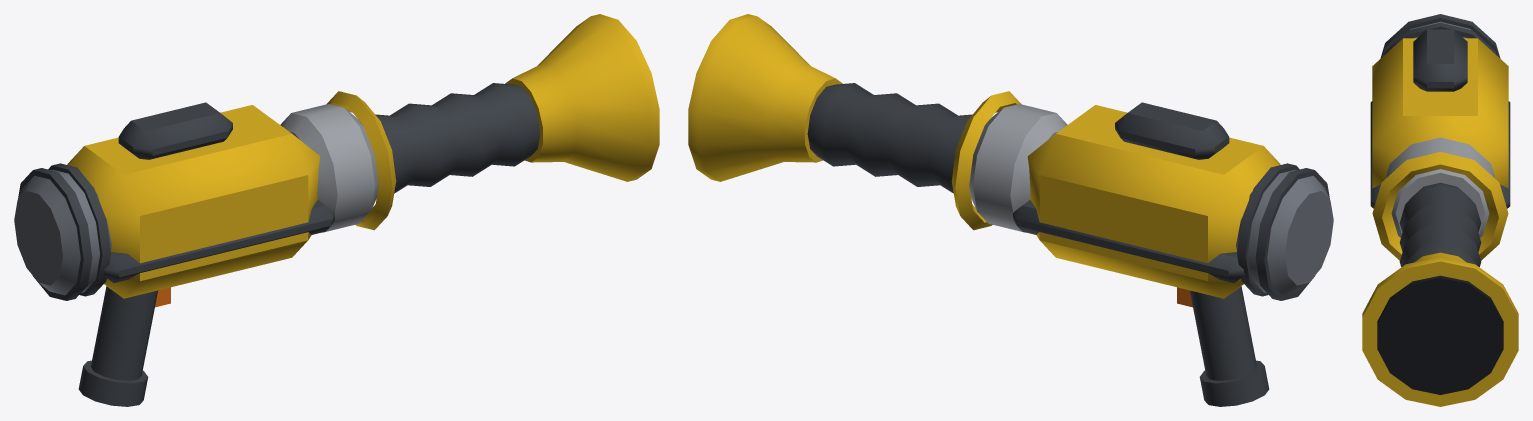
Rendered from vac_1.glb.
3 renders of one model, left to right at view 1: azimuth 30°, elevation 25°; view 2: azimuth 150°, elevation 25°; view 3: azimuth 270°, elevation 25°, orthographic. The views are drawn at different scales.
Visible parts, largest first — view 1: Body; view 2: Body; view 3: Body.
Part boxes in pixels (left/top/right/bottom): Body: left=14, top=14, right=659, bottom=406; Body: left=688, top=14, right=1333, bottom=406; Body: left=1362, top=14, right=1518, bottom=406.
Size of the model in its own units: 0.938 by 0.4117 by 0.2301.
